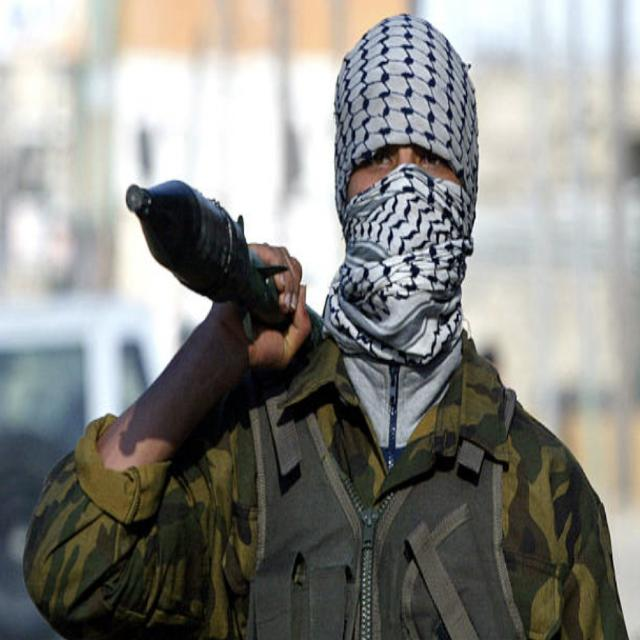bazooka: (128, 171, 351, 391)
